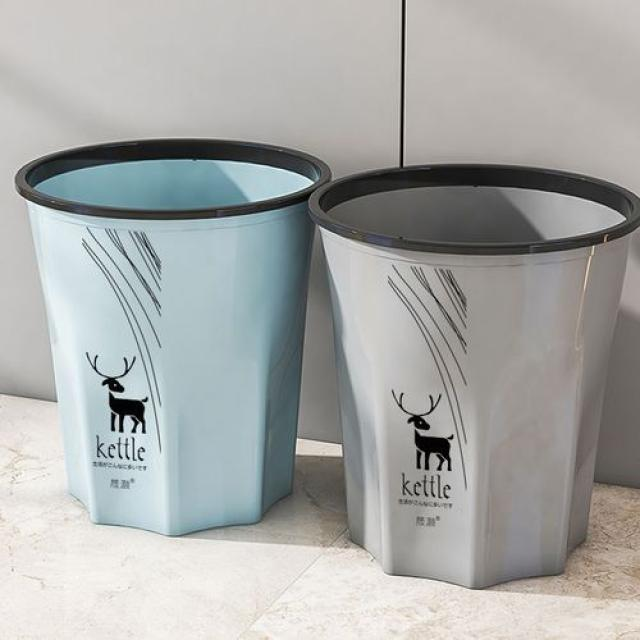dustbin: (303, 158, 640, 592), (13, 129, 332, 536)
